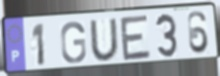1: (29, 22, 46, 68)
3: (155, 12, 178, 60)
6: (186, 10, 210, 57)
E: (119, 13, 153, 63)
G: (59, 21, 88, 65)
U: (88, 17, 121, 63)
